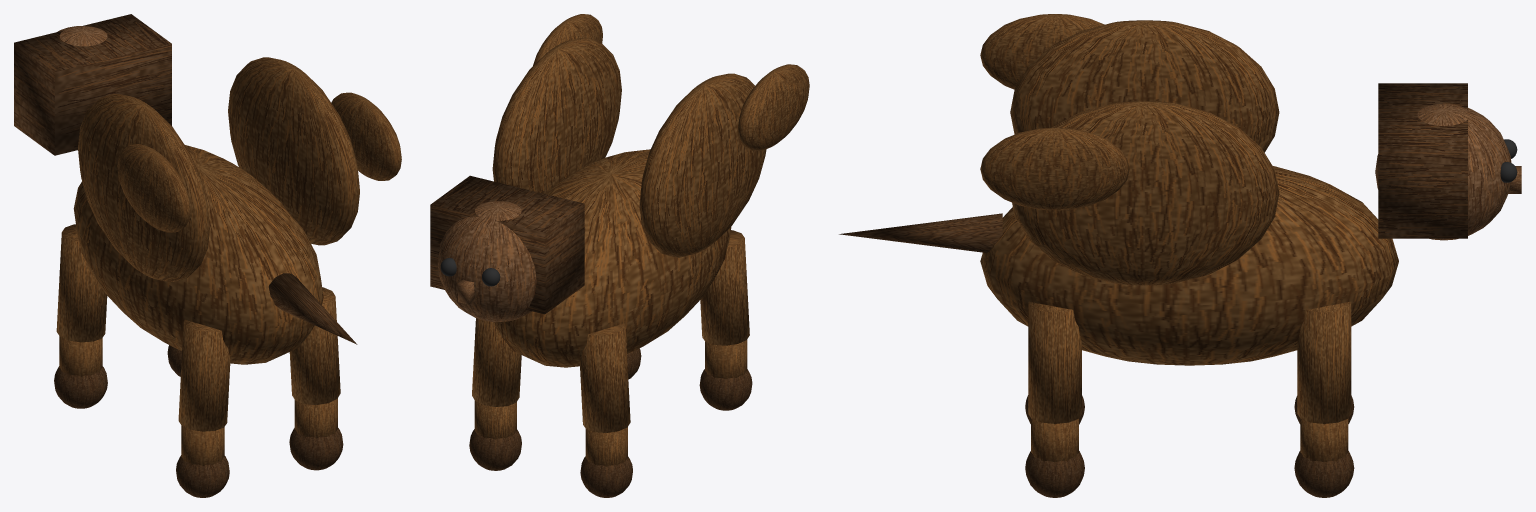
File: sphinx.glb
3 views of the same model, side by side, from view 1: azimuth 30°, elevation 25°; view 2: azimuth 150°, elevation 25°; view 3: azimuth 270°, elevation 25° (orthographic). The views are drawn at different scales.
Parts seen in each view (by area): view 1: Body, Wing.001, Headdress, Wing, LegUpper.001, WingTip, LegUpper, WingTip.001, LegUpper.003, Tail, Paw, Paw.001 (+5 smaller); view 2: Body, Wing, Wing.001, Headdress, HumanHead, LegUpper, WingTip, LegUpper.001, LegUpper.002, Paw.002, Paw, Paw.001 (+4 smaller); view 3: Body, Wing.001, Wing, Headdress, WingTip.001, LegUpper.002, LegUpper.003, HumanHead, WingTip, Tail, Paw.002, Paw.003 (+2 smaller).
Part boxes in pixels (left/top/right/bottom): Body: left=73, top=145, right=323, bottom=364; Wing.001: left=228, top=57, right=359, bottom=245; Headdress: left=14, top=14, right=171, bottom=155; Wing: left=78, top=94, right=209, bottom=281; LegUpper.001: left=178, top=319, right=230, bottom=431; WingTip: left=117, top=144, right=190, bottom=232; LegUpper: left=56, top=224, right=107, bottom=342; WingTip.001: left=331, top=92, right=401, bottom=180; LegUpper.003: left=289, top=287, right=340, bottom=404; Tail: left=268, top=273, right=357, bottom=344; Paw: left=54, top=366, right=107, bottom=408; Paw.001: left=176, top=455, right=229, bottom=497; Body: left=493, top=149, right=731, bottom=367; Wing: left=639, top=73, right=766, bottom=257; Wing.001: left=492, top=37, right=621, bottom=193; Headdress: left=430, top=175, right=584, bottom=314; HumanHead: left=437, top=201, right=536, bottom=321; LegUpper: left=579, top=323, right=630, bottom=432; WingTip: left=738, top=64, right=809, bottom=150; LegUpper.001: left=700, top=230, right=749, bottom=345; LegUpper.002: left=472, top=318, right=521, bottom=406; Paw.002: left=469, top=429, right=521, bottom=470; Paw: left=580, top=456, right=632, bottom=497; Paw.001: left=699, top=369, right=752, bottom=410; Body: left=980, top=166, right=1398, bottom=365; Wing.001: left=1012, top=101, right=1279, bottom=285; Wing: left=1010, top=20, right=1279, bottom=152; Headdress: left=1378, top=83, right=1467, bottom=238; WingTip.001: left=980, top=127, right=1129, bottom=210; LegUpper.002: left=1297, top=301, right=1351, bottom=423; LegUpper.003: left=1028, top=301, right=1081, bottom=423; HumanHead: left=1375, top=103, right=1511, bottom=240; WingTip: left=980, top=14, right=1104, bottom=89; Tail: left=839, top=213, right=1002, bottom=252; Paw.002: left=1294, top=451, right=1354, bottom=497; Paw.003: left=1025, top=451, right=1084, bottom=497.
Size of the model in its own units: 0.6891 by 1 by 1.54.
Materials: 4 (3 with a texture image).
